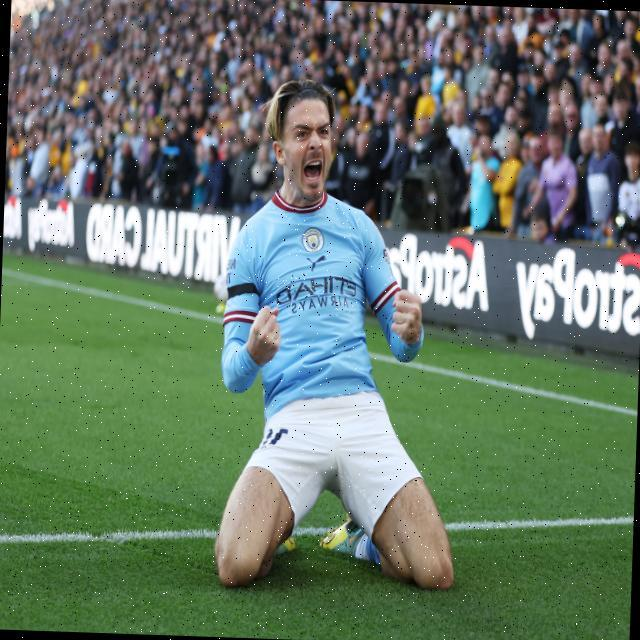Etihad Airways: (276, 272, 357, 317)
